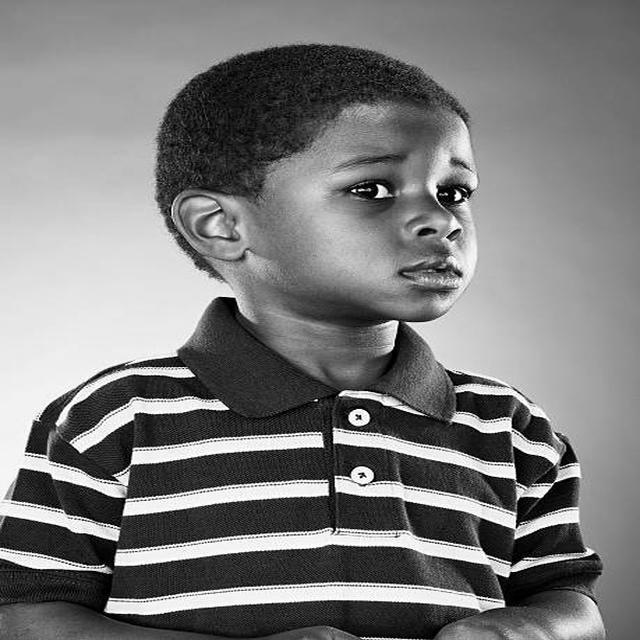Fear: (247, 101, 479, 322)
